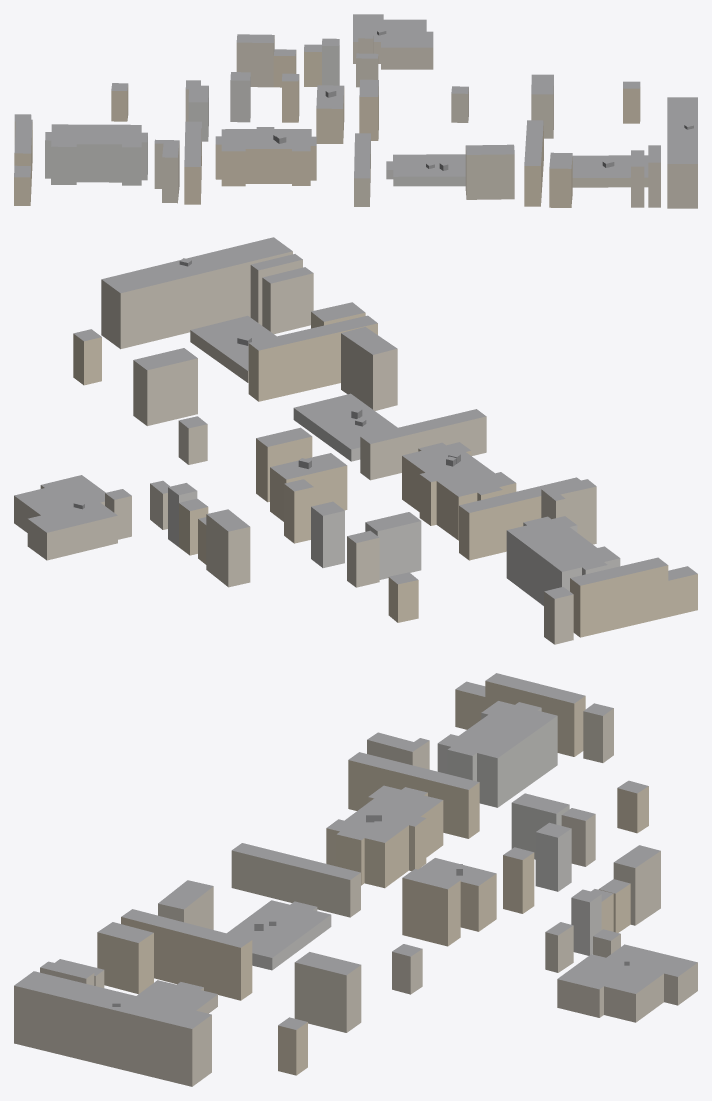
The model's file is building_4_1.glb.
3 renders of one model, top to bottom at view 1: azimuth 30°, elevation 25°; view 2: azimuth 150°, elevation 25°; view 3: azimuth 270°, elevation 25°, orthographic. The views are drawn at different scales.
Visible parts, largest first — view 1: roof, concrete_warm, sandstone, concrete_light; view 2: concrete_warm, roof, sandstone, concrete_light; view 3: concrete_warm, roof, sandstone, concrete_light.
Boxes of the visible parts, box(x1,y1,x2,y2) form: roof: box(14, 14, 697, 178); concrete_warm: box(14, 35, 697, 208); sandstone: box(14, 50, 640, 207); concrete_light: box(45, 45, 465, 186); concrete_warm: box(14, 251, 596, 644); roof: box(14, 237, 697, 598); sandstone: box(73, 312, 697, 637); concrete_light: box(168, 408, 620, 605); concrete_warm: box(14, 708, 697, 1086); roof: box(14, 673, 697, 1029); sandstone: box(97, 681, 648, 1075); concrete_light: box(252, 708, 601, 970).
Size of the model in its own units: 203 by 15.77 by 159.
